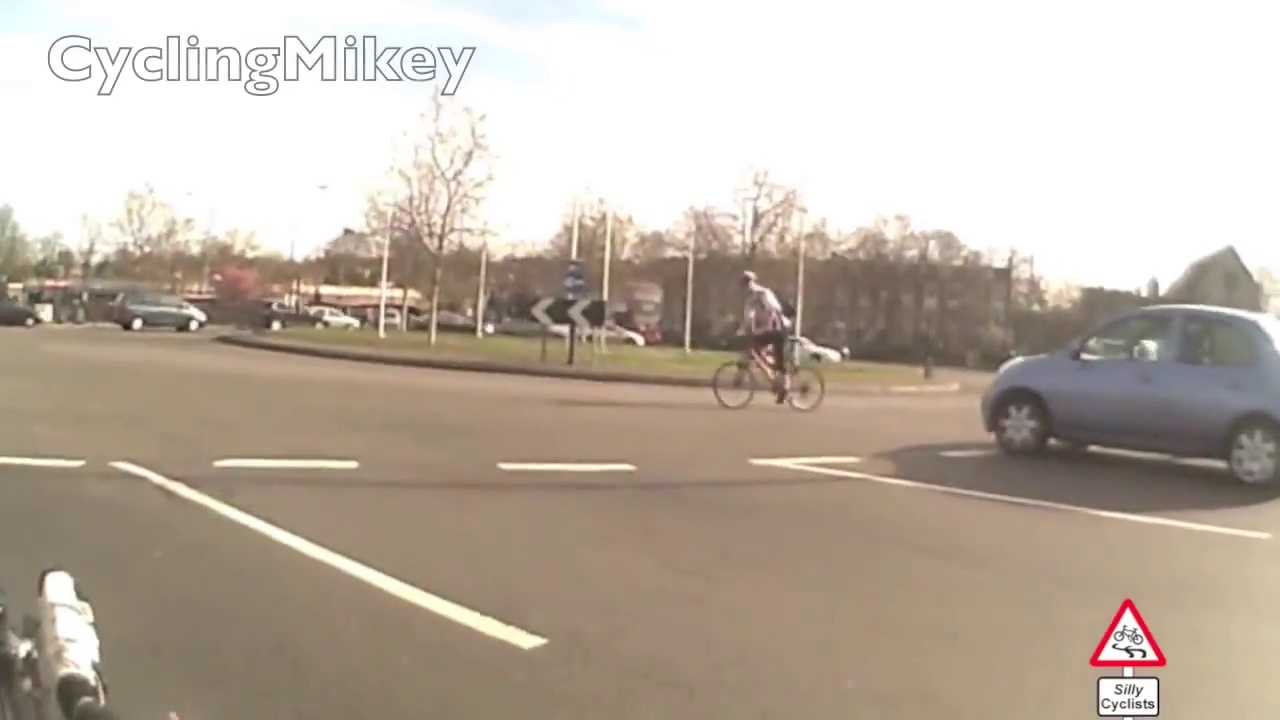cyclist_side: (712, 269, 833, 418)
